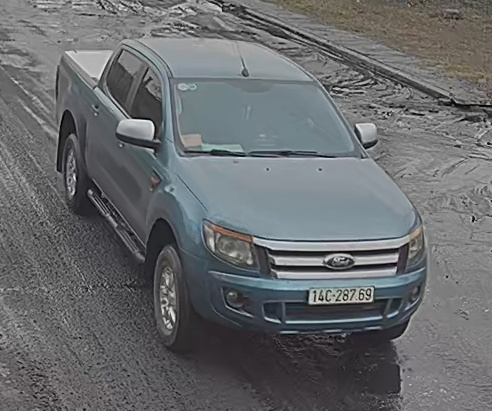vehicle plate: (303, 284, 380, 305)
